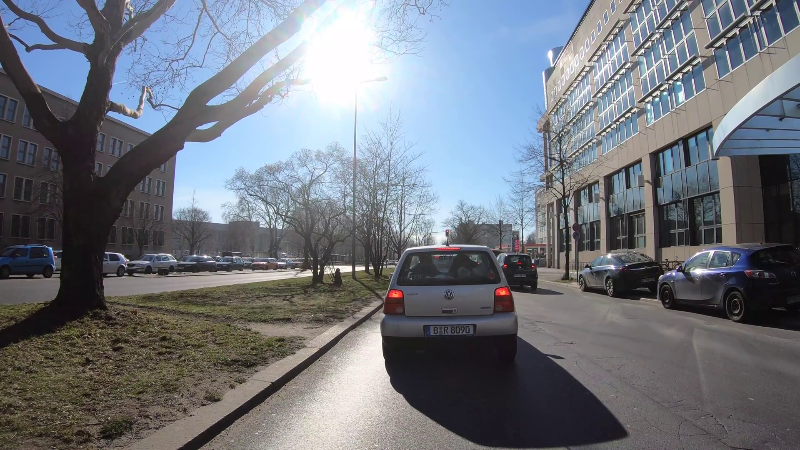Plate: (422, 324, 475, 335), (639, 276, 654, 283), (512, 272, 526, 279)
